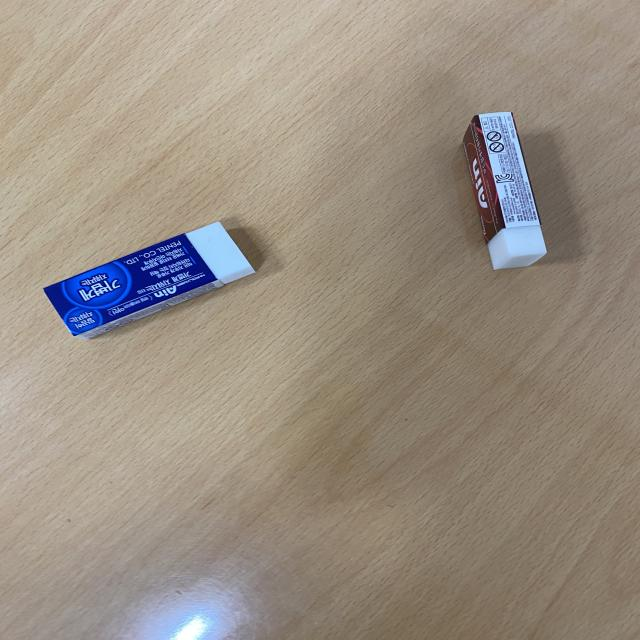blue: (39, 218, 262, 342)
red: (457, 109, 549, 275)
